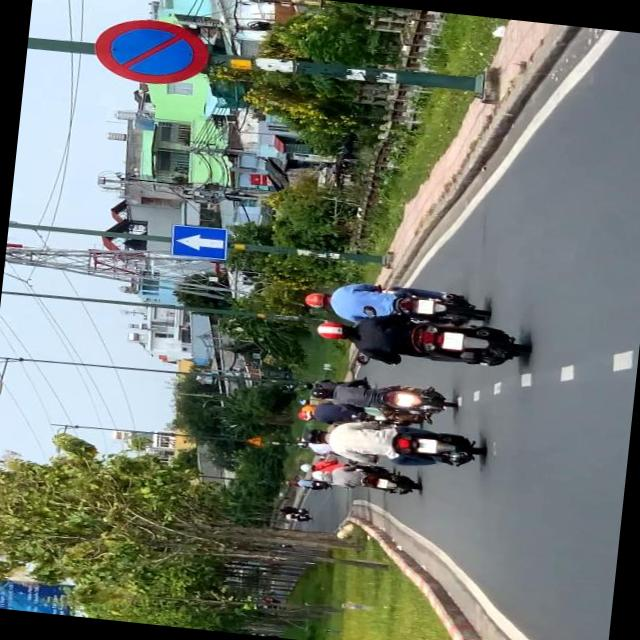I-407a: (170, 223, 227, 260)
P-131a: (92, 16, 210, 88)
